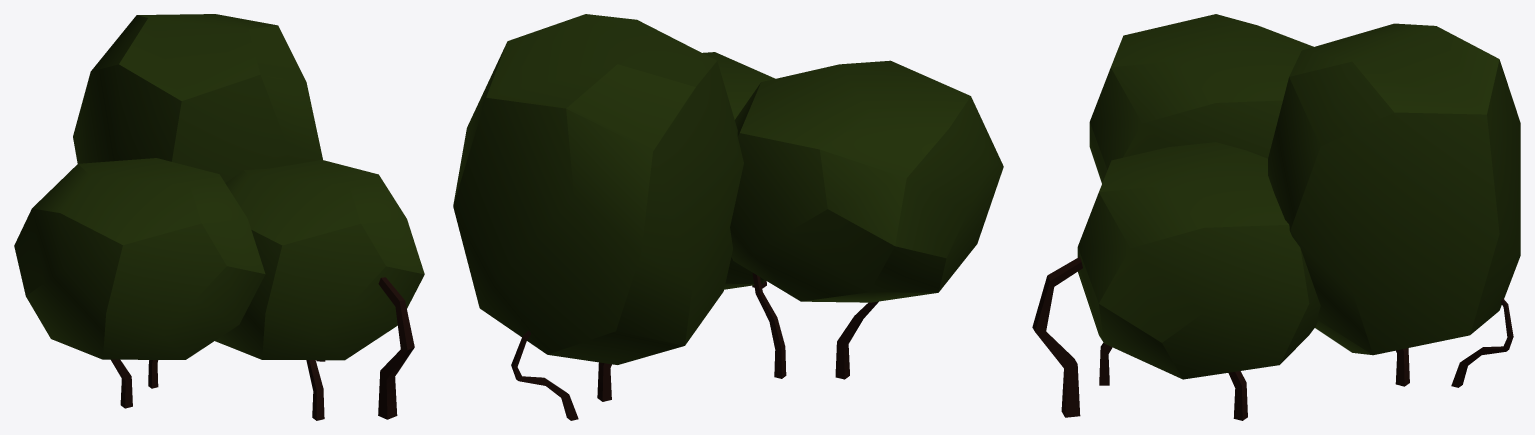
Rendered from bush.fbx.
3 views of the same model, side by side, from view 1: azimuth 30°, elevation 25°; view 2: azimuth 150°, elevation 25°; view 3: azimuth 270°, elevation 25° (orthographic). The views are drawn at different scales.
Parts seen in each view (by area): view 1: bush; view 2: bush; view 3: bush.
Boxes of the visible parts, box(x1,y1,x2,y2) form: bush: box(14, 14, 424, 420); bush: box(453, 14, 1003, 420); bush: box(1032, 14, 1520, 420).
Bounding box in the file's own units: 406 × 338 × 435.
